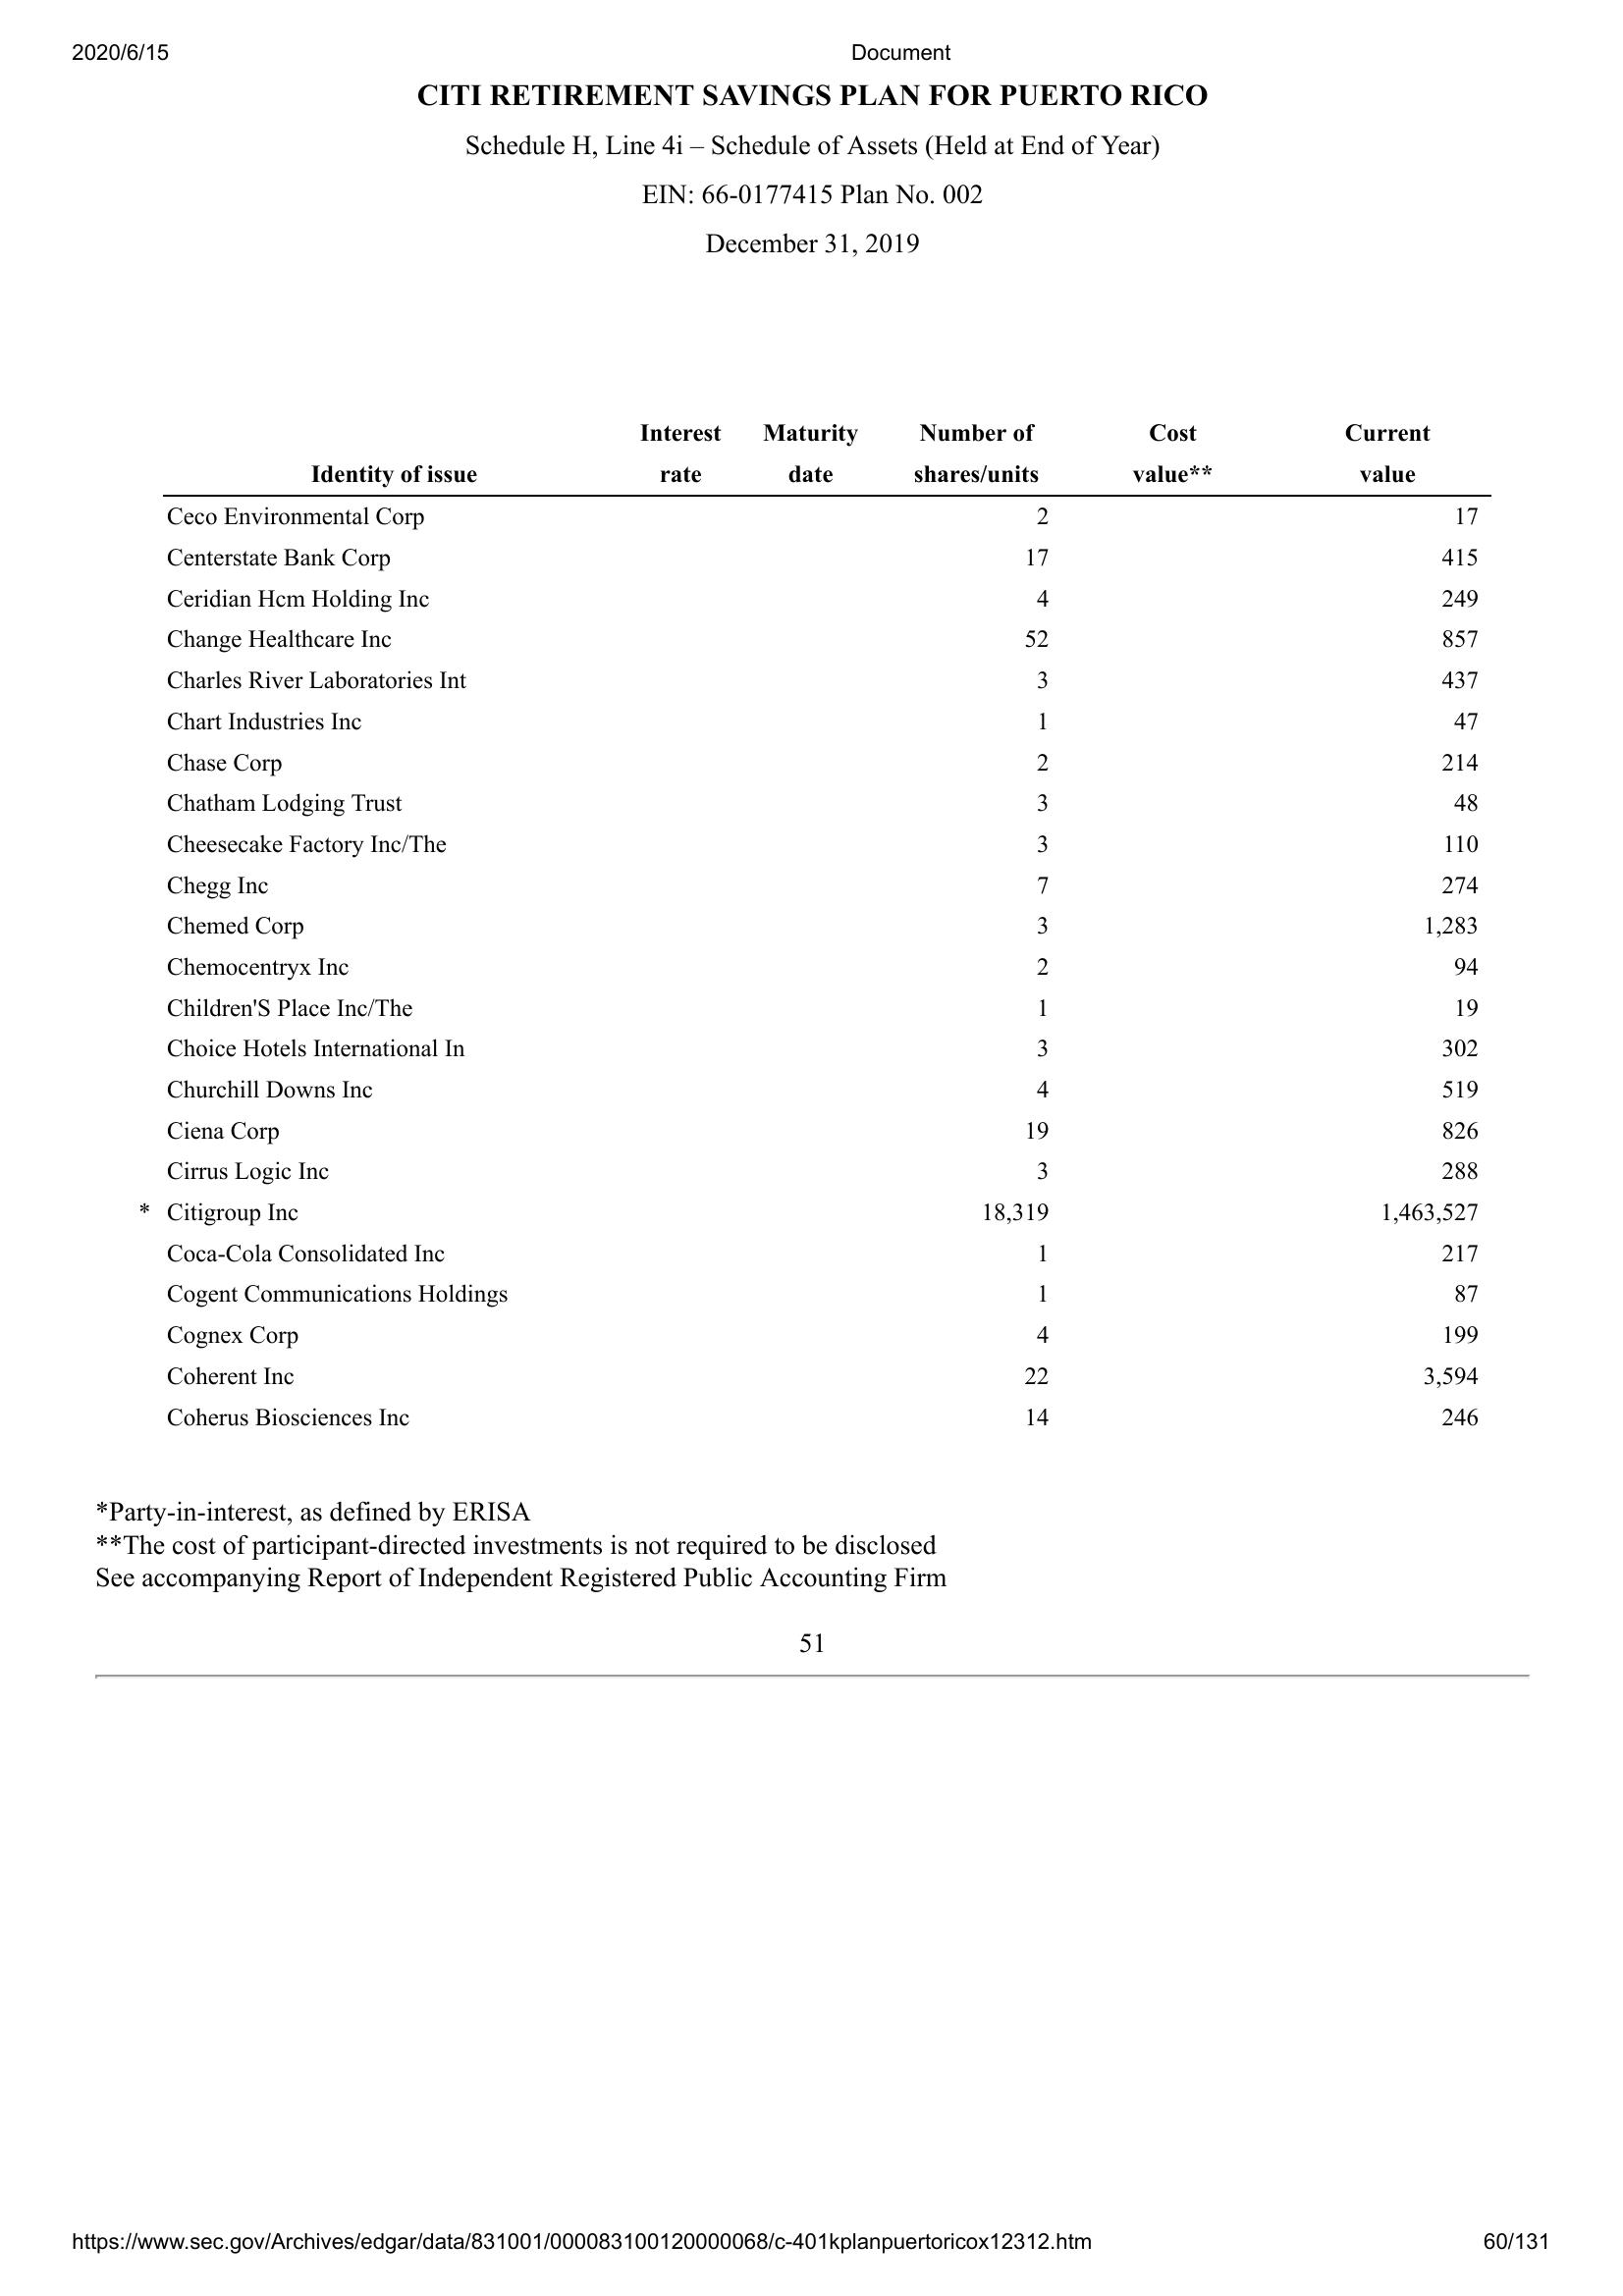table: (158, 420, 1491, 1434)
